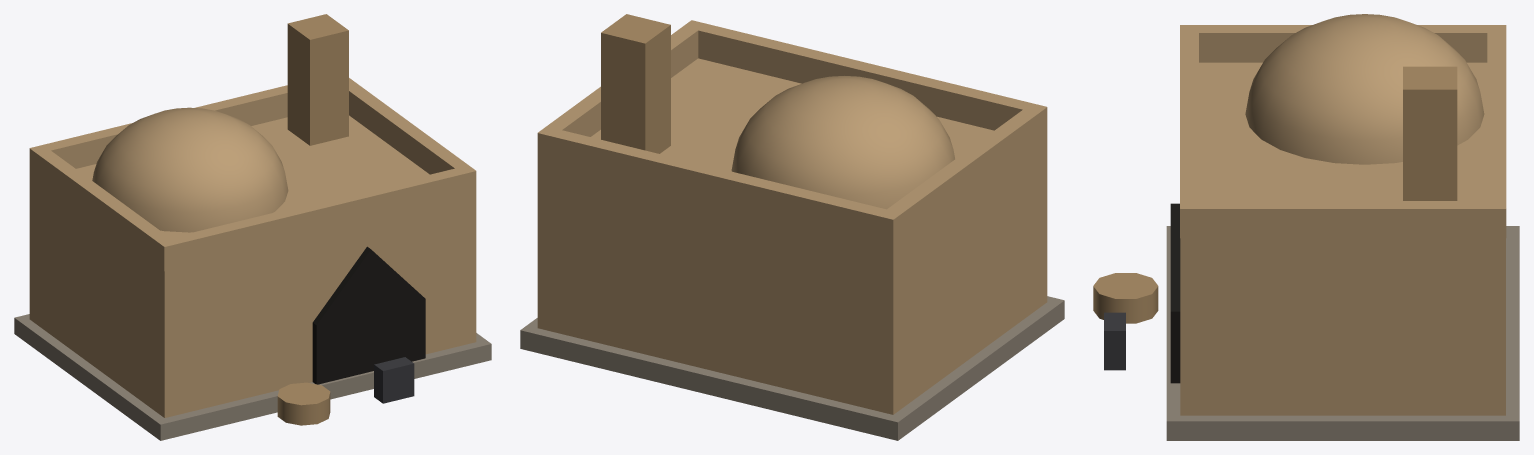
File: smithy.glb
The picture shows the model from 3 angles, left to right: view 1: azimuth 30°, elevation 25°; view 2: azimuth 150°, elevation 25°; view 3: azimuth 270°, elevation 25°; orthographic projection. The views are drawn at different scales.
Visible parts, largest first — view 1: Smithy; view 2: Smithy; view 3: Smithy.
Part boxes in pixels (x1=…): Smithy: x1=14, y1=14, x2=491, y2=440; Smithy: x1=520, y1=14, x2=1064, y2=440; Smithy: x1=1093, y1=14, x2=1519, y2=440.
Size of the model in its own units: 8.5 by 6.6 by 7.85.
